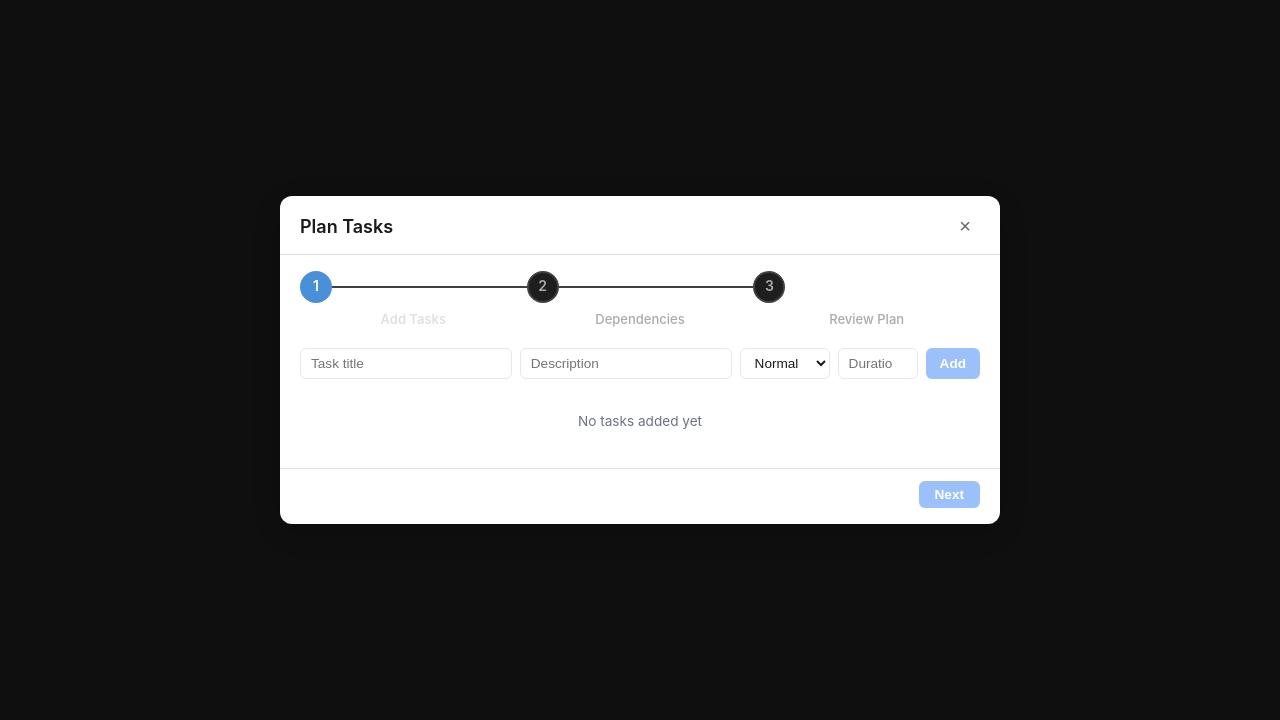
Scenario: PlannerWizard › step 1 — add tasks › estimated duration input accepts numbers
This screenshot has width=1280, height=720.
Type "Timed Task" into the field with placeholder "Task title" at (406, 363), box [300,348,512,379]
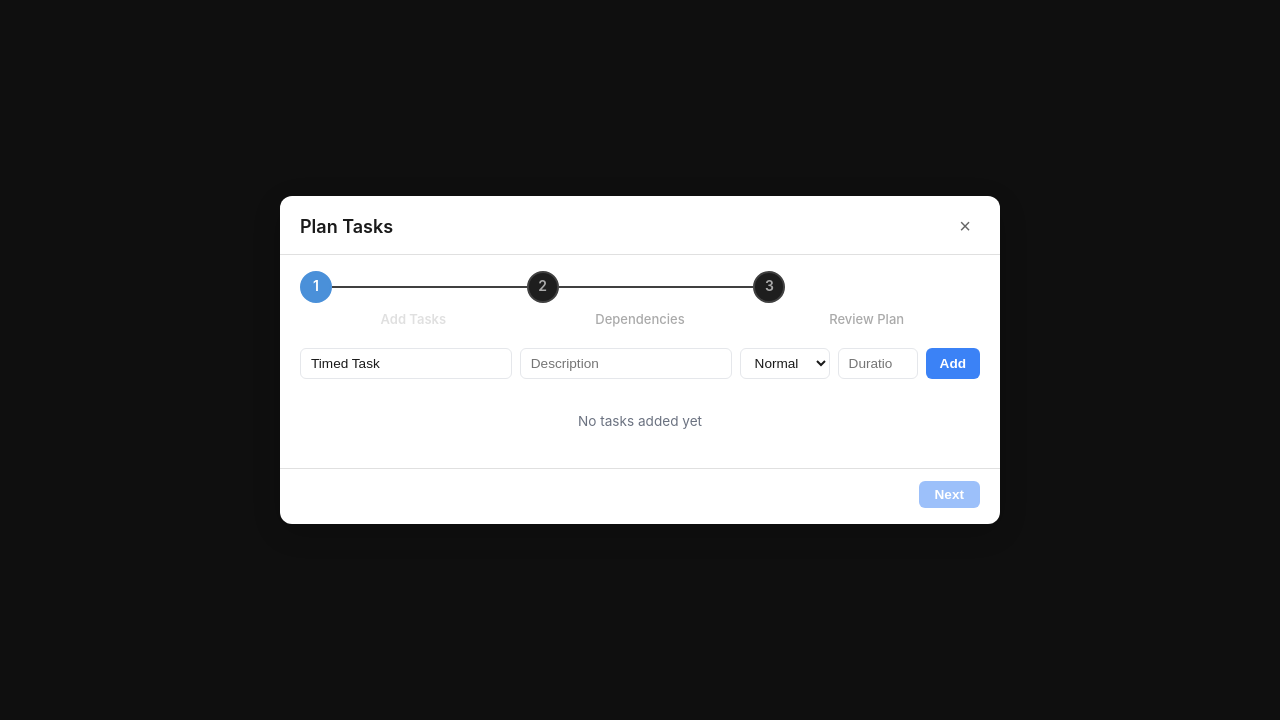
Type "30" into the number field named "Estimated duration" at (878, 363), box [838,348,918,379]
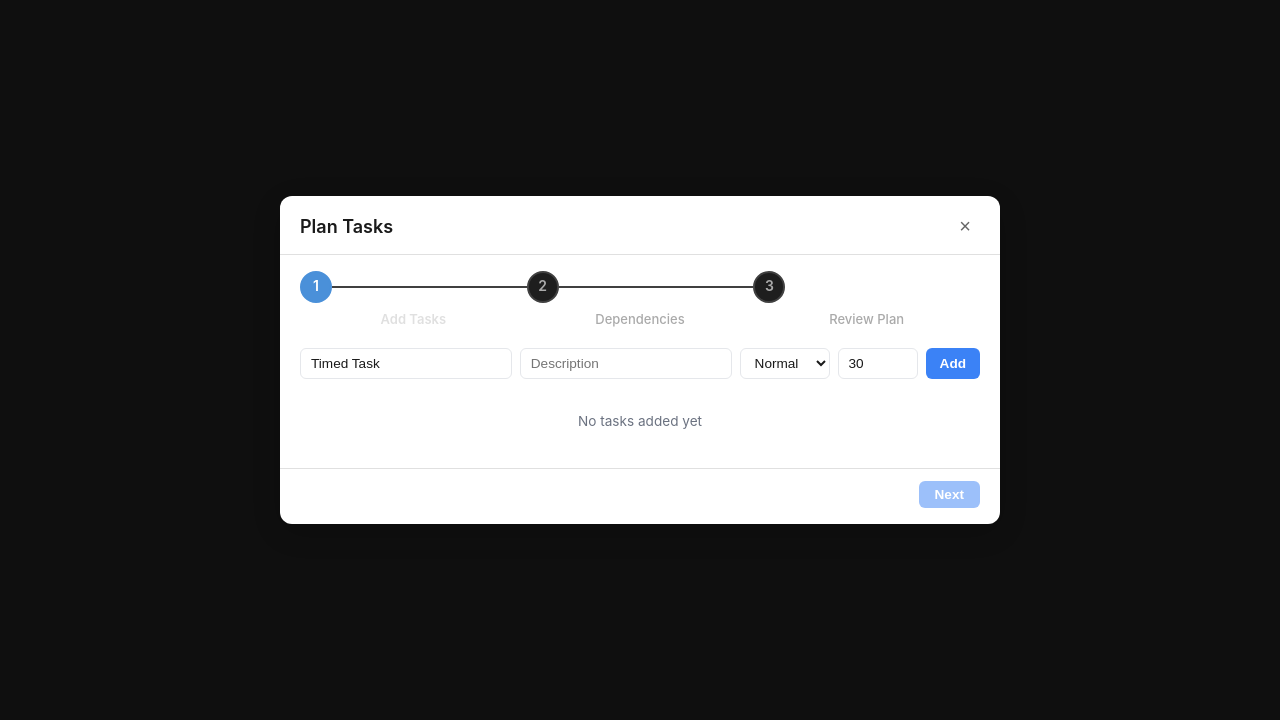
Click the button "Add" at (953, 363), box [926,348,980,379]
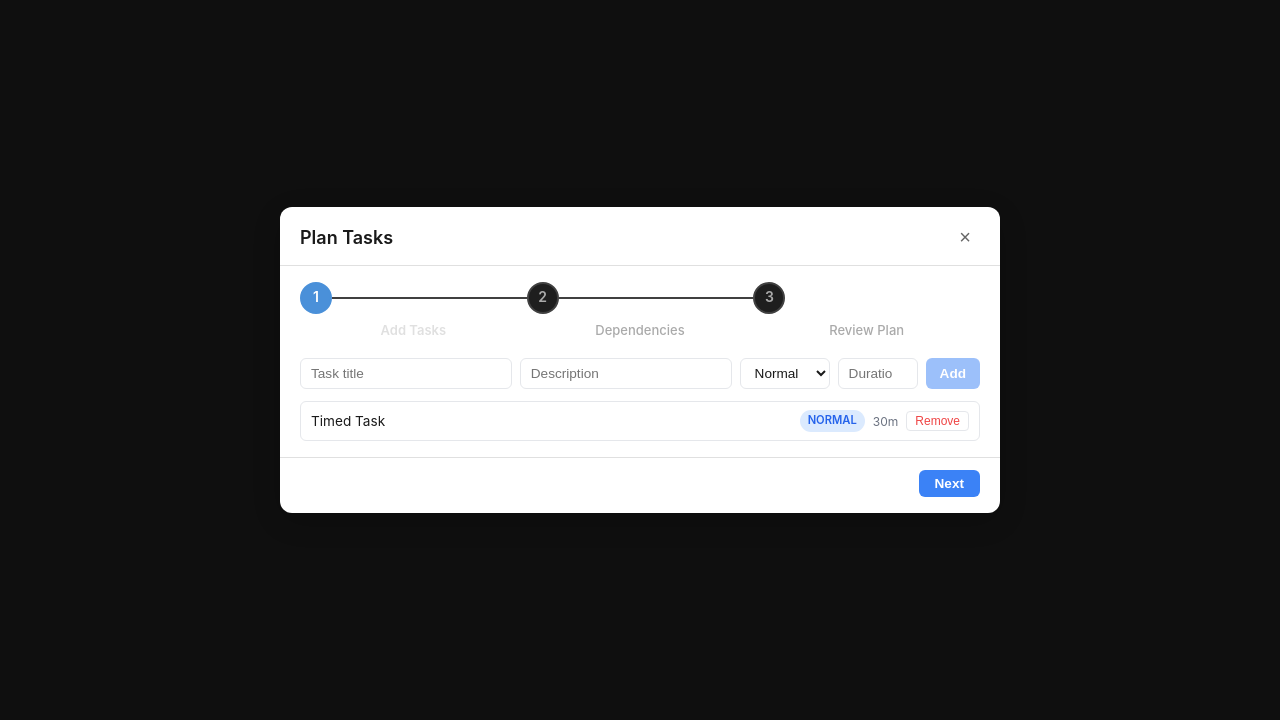
Result: the text "30m" is shown at [873,412,898,431]
